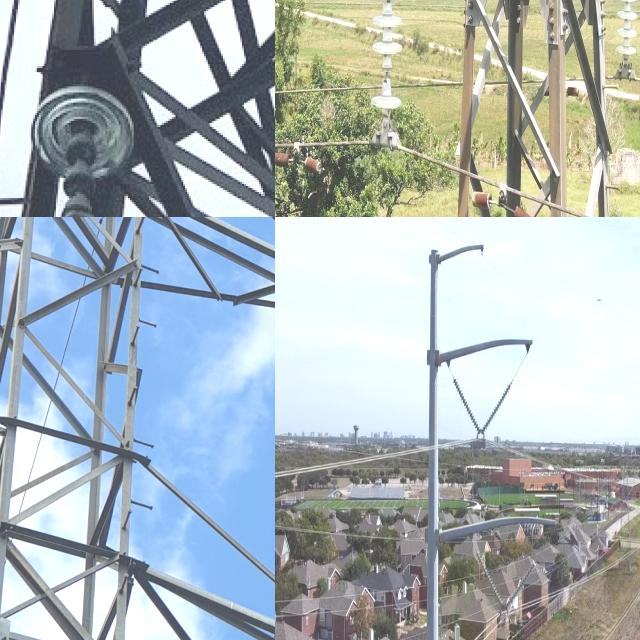杆塔: (0, 217, 275, 640), (363, 0, 640, 217), (0, 0, 275, 217)
正常绝缘子: (8, 71, 131, 217), (367, 0, 407, 142), (476, 372, 518, 442), (498, 554, 541, 620), (448, 366, 484, 442), (472, 542, 506, 616), (613, 0, 640, 93)
绝缘子破损: (62, 174, 96, 200), (63, 144, 102, 166), (60, 204, 96, 217), (382, 60, 391, 88)
